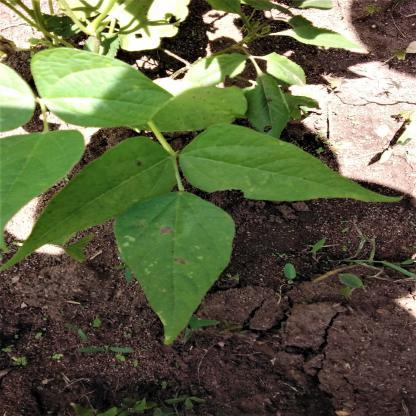Beans_Angular_LeafSpot: (4, 142, 192, 274), (113, 190, 232, 340), (144, 85, 256, 134)
